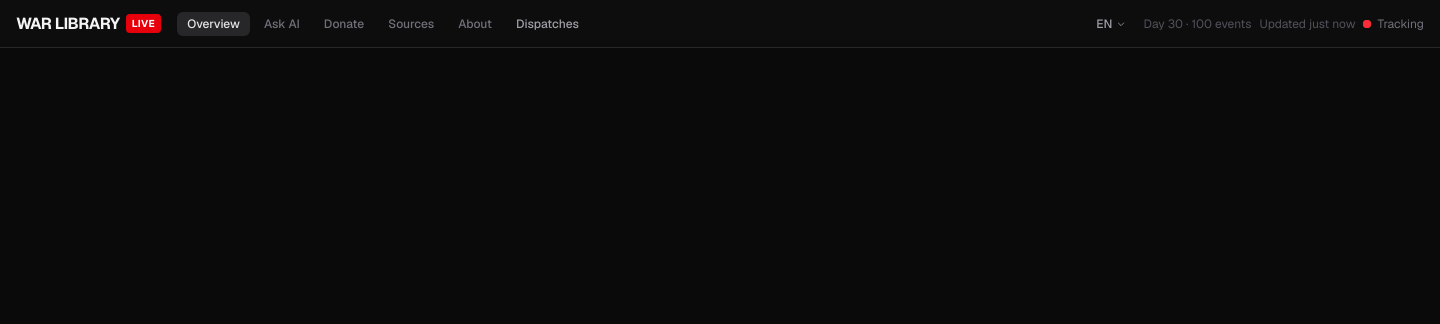
Test case: Language selector in Header › opens dropdown with all languages on click
Click the button with aria-label "language" at {"x": 1111, "y": 24}, box x1=1087 y1=10 x2=1136 y2=36
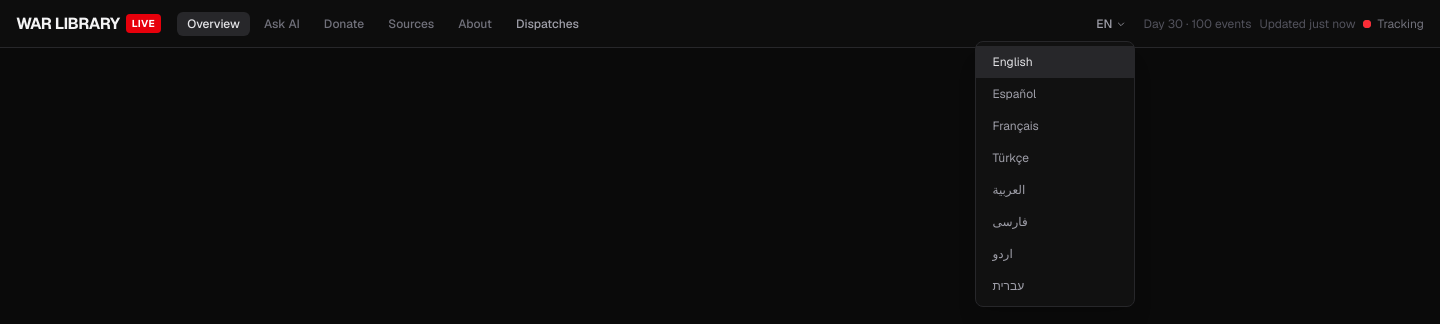
Result: the option "English" is shown at x1=976 y1=46 x2=1134 y2=78
Result: the option "Español" is shown at x1=976 y1=78 x2=1134 y2=110
Result: the option "العربية" is shown at x1=976 y1=174 x2=1134 y2=206
